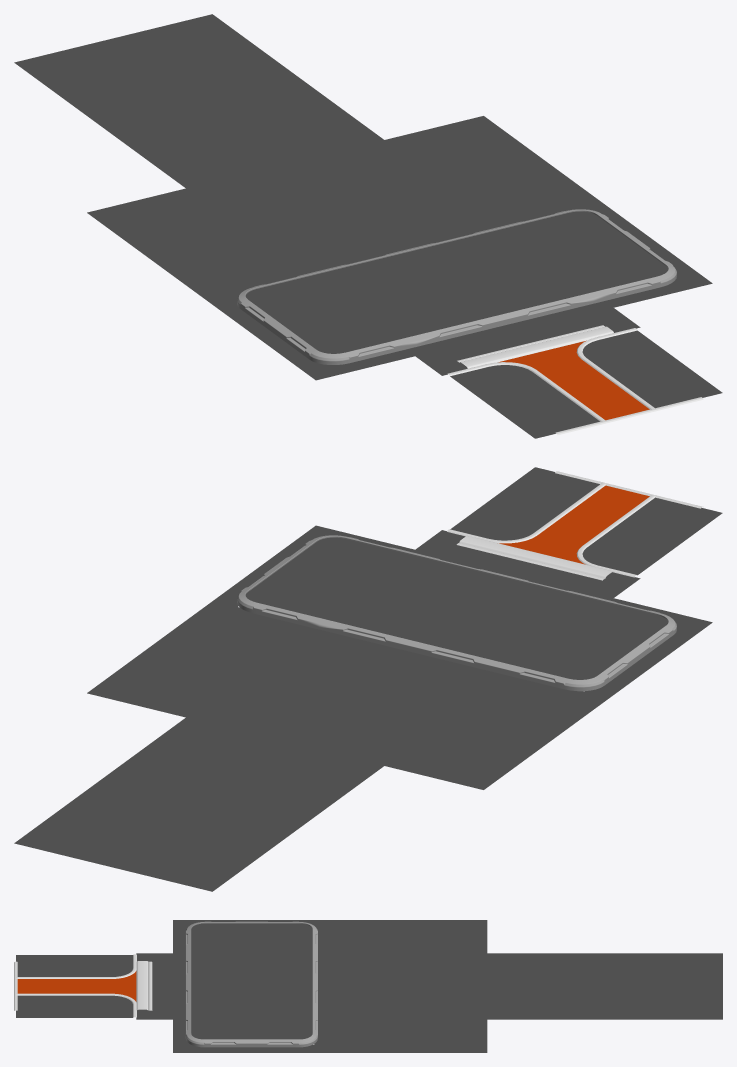
Rendered from floor_lv01_room_02_a.fbx.
3 views of the same model, one above another, from view 1: azimuth 30°, elevation 25°; view 2: azimuth 150°, elevation 25°; view 3: azimuth 270°, elevation 25° (orthographic). The views are drawn at different scales.
Parts seen in each view (by area): view 1: SmartCombine_34; view 2: SmartCombine_34; view 3: SmartCombine_34.
Part boxes in pixels (box(x1,y1,x2,y2)): SmartCombine_34: box(14, 14, 722, 438); SmartCombine_34: box(14, 467, 722, 891); SmartCombine_34: box(14, 920, 722, 1052).
Bounding box in the file's own units: 1291 × 30.34 × 2913.
